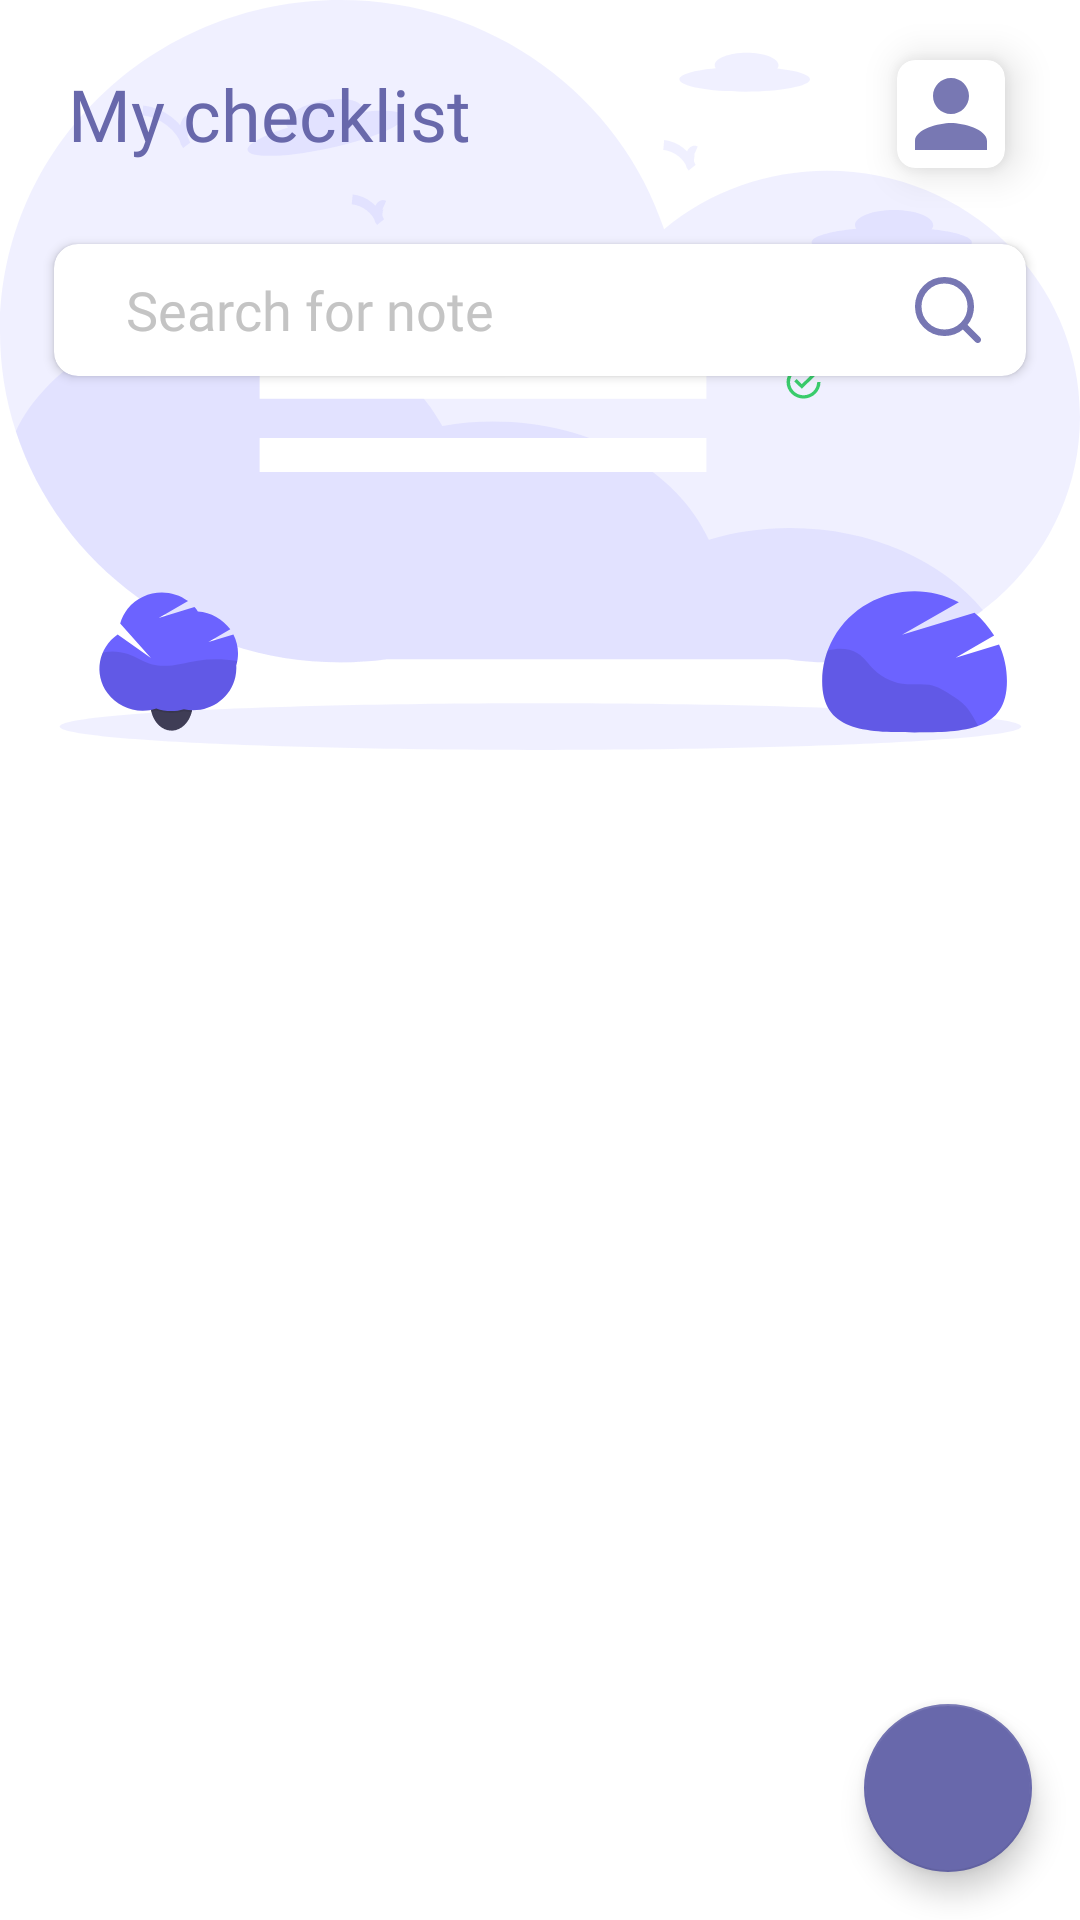

Icons on this 1080px×1920px Android screen, each with the point to tap as (x=x, y=y):
person: (x=951, y=114)
search: (x=948, y=310)
